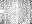person: (1, 9, 6, 13)
